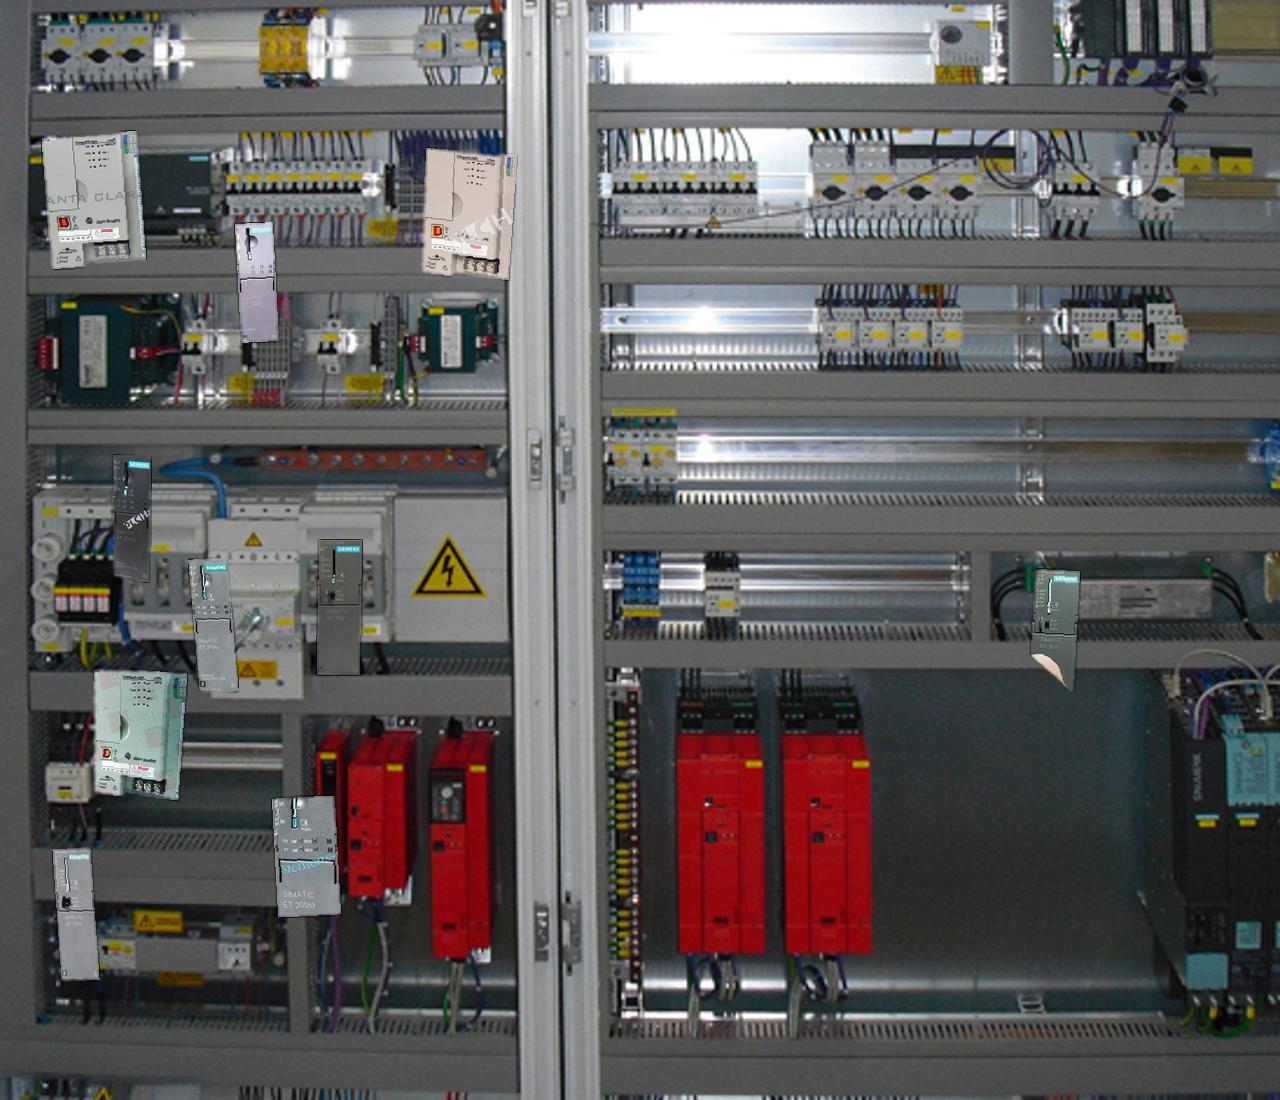AllenBradley: (42, 131, 145, 268), (422, 148, 515, 279), (94, 670, 186, 799)
Siemens: (52, 848, 99, 979), (317, 540, 361, 673), (1031, 569, 1079, 691)
